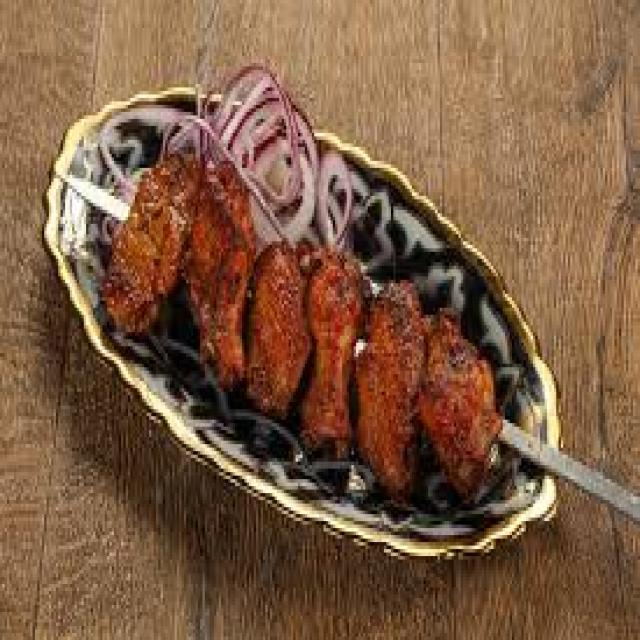Chicken Wings: (114, 147, 510, 500)
Onion Rings: (89, 60, 358, 242)
